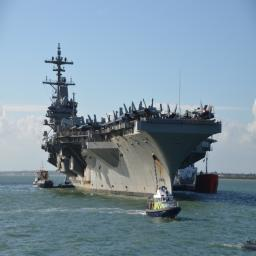Portanaves: (39, 41, 225, 205)
